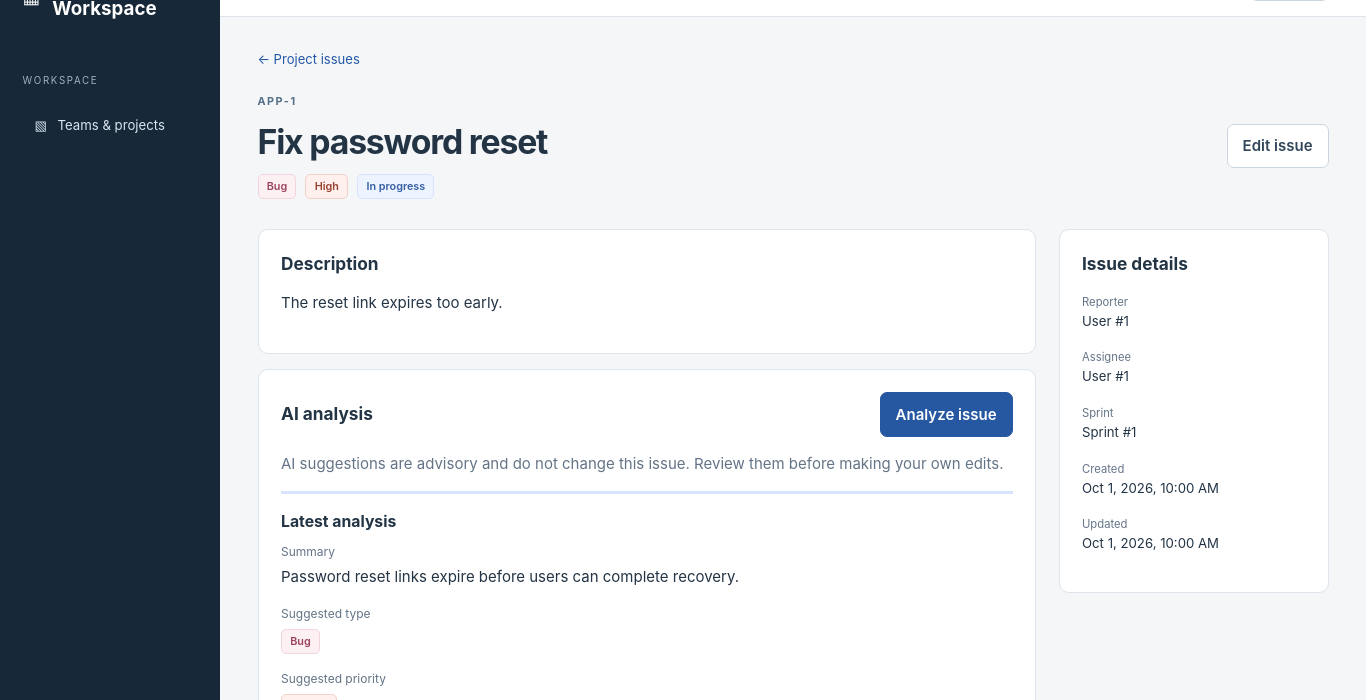
Scenario: edit issue sends only changed mutable fields
Click the button "Edit issue": (1278, 146) [1227,124,1328,168]
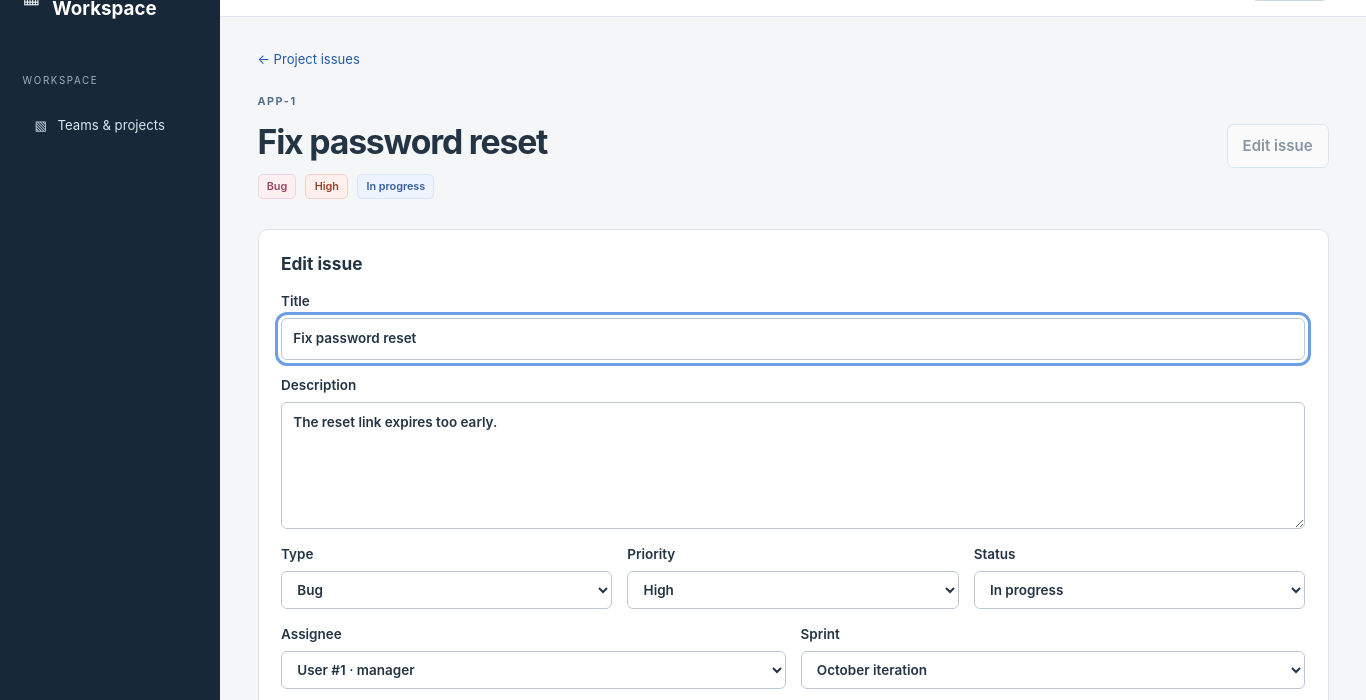
Replace the text in the field labelled "Title" with "Updated title": (793, 339) [281,318,1305,360]
(page scrolled)
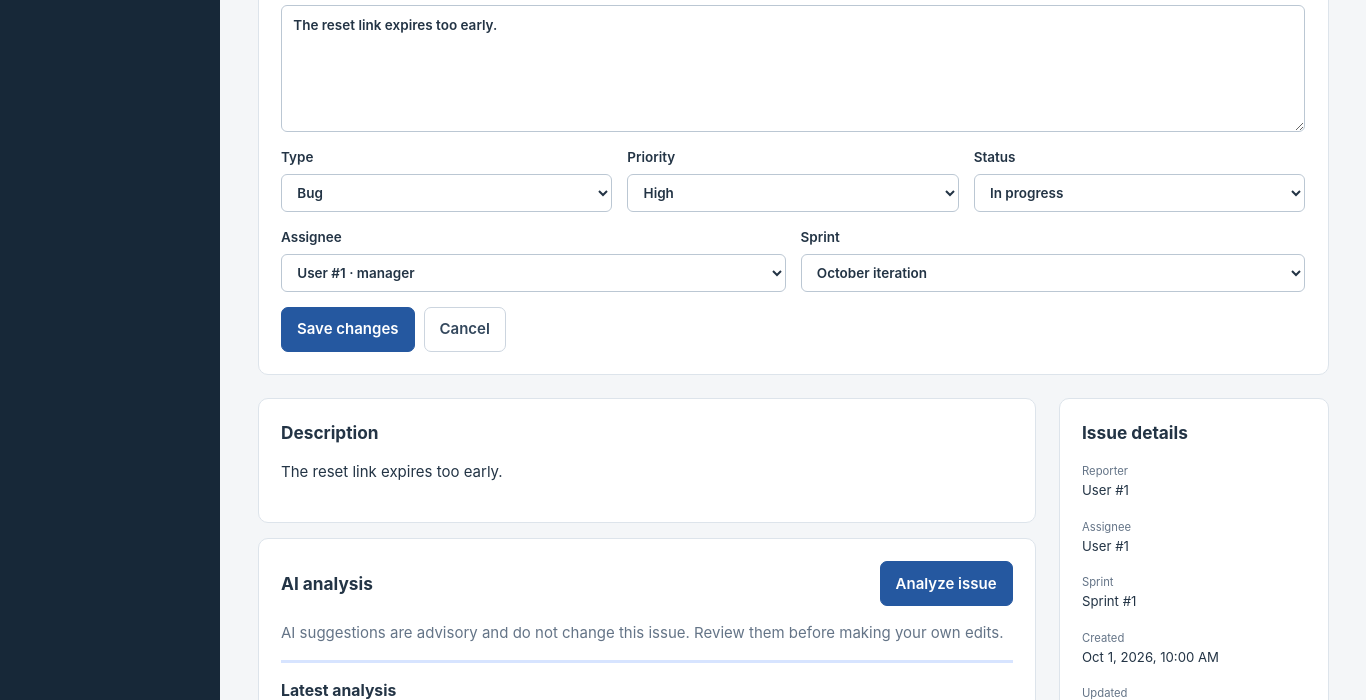
Result: the dropdown labelled "Assignee" is shown at [281,254,786,292]
Click the button "Save changes": (348, 330) [281,307,414,352]
(page scrolled)
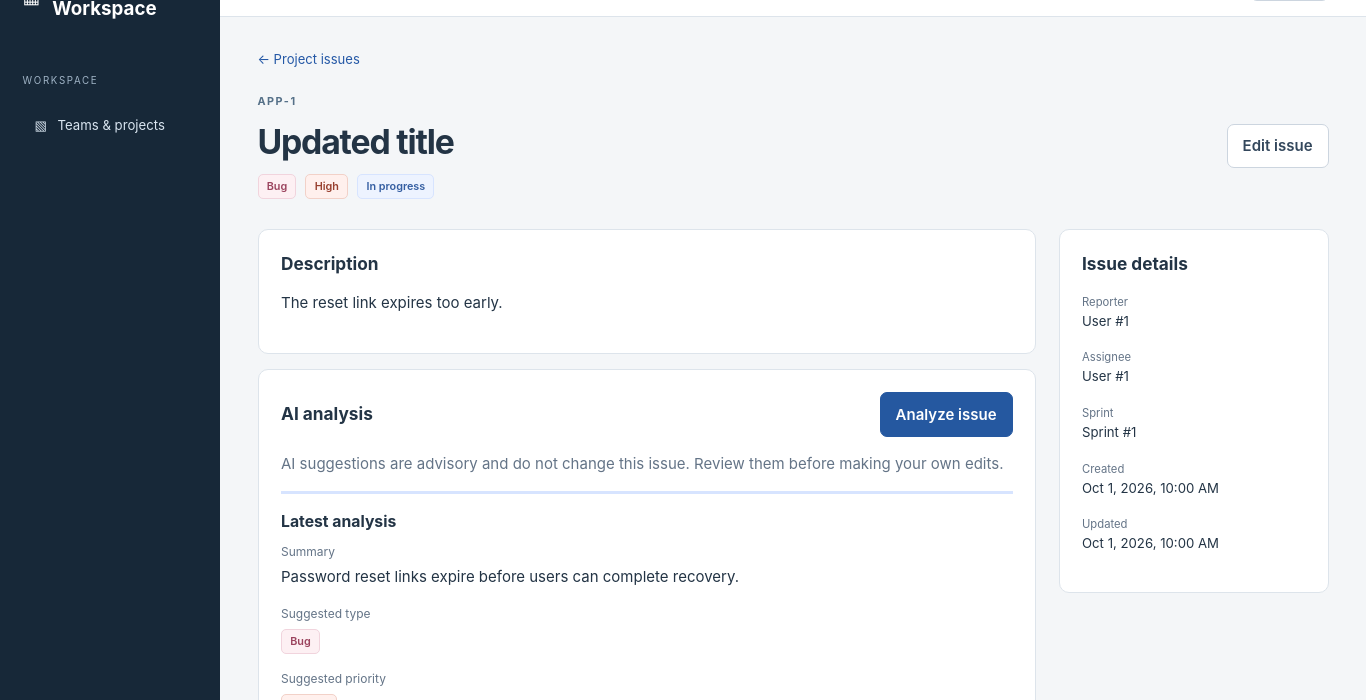
Result: the heading "Updated title" is shown at [258,121,454,164]
